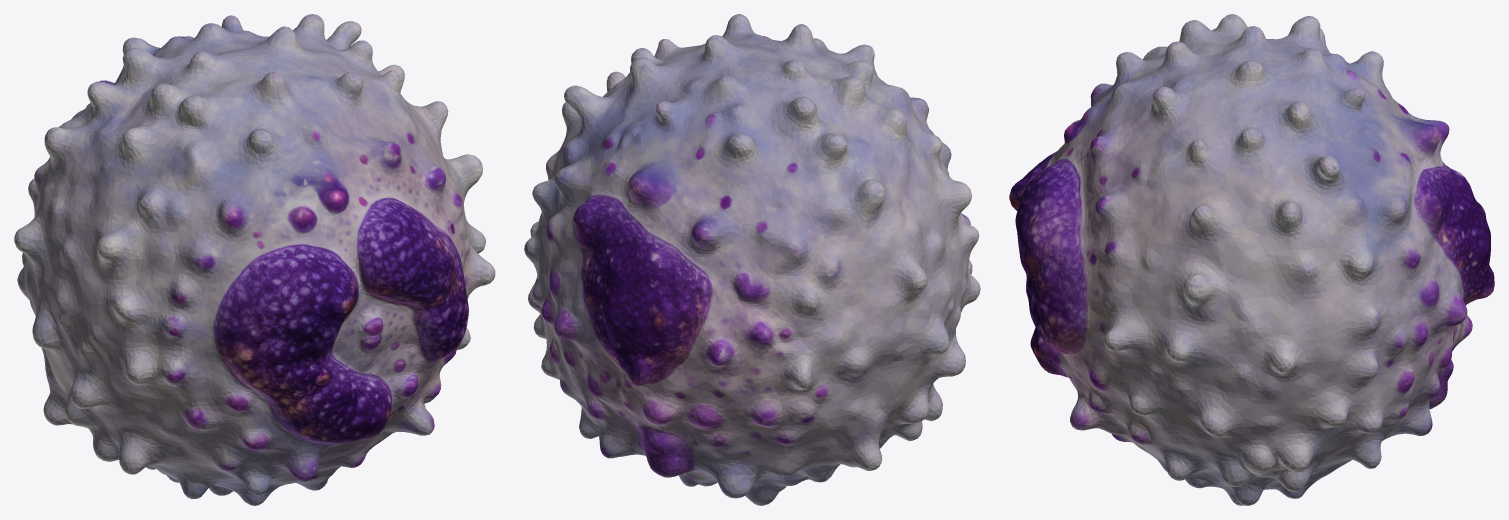
Rendered from white-blood-hunyuan-hd.glb.
The picture shows the model from 3 angles, left to right: view 1: azimuth 30°, elevation 25°; view 2: azimuth 150°, elevation 25°; view 3: azimuth 270°, elevation 25°; orthographic projection. The views are drawn at different scales.
Parts seen in each view (by area): view 1: textured_mesh.obj; view 2: textured_mesh.obj; view 3: textured_mesh.obj.
Boxes of the visible parts, x1,y1,x2,y2 form: textured_mesh.obj: (14, 14, 495, 505); textured_mesh.obj: (524, 14, 980, 505); textured_mesh.obj: (1009, 14, 1494, 505).
Size of the model in its own units: 1.91 by 1.98 by 1.98.
1 material, 1 textured.
